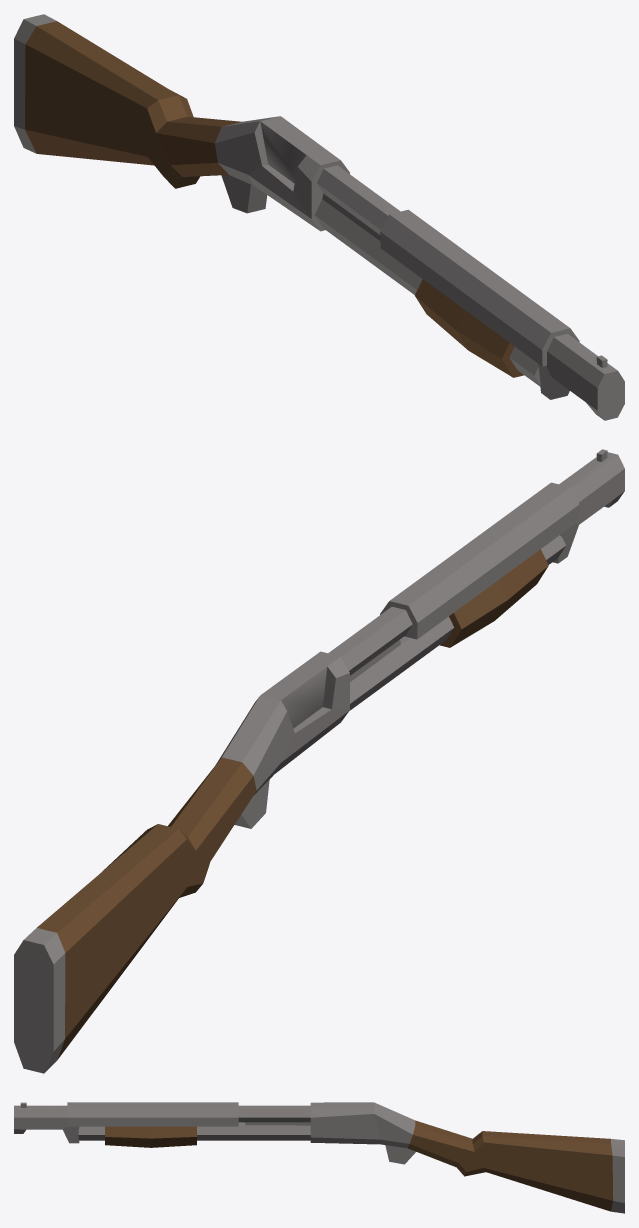
The model's file is SM_Shotgun_Old.fbx.
3 views of the same model, one above another, from view 1: azimuth 30°, elevation 25°; view 2: azimuth 150°, elevation 25°; view 3: azimuth 270°, elevation 25° (orthographic). The views are drawn at different scales.
Parts seen in each view (by area): view 1: SM_Shotgun_Old; view 2: SM_Shotgun_Old; view 3: SM_Shotgun_Old.
Boxes of the visible parts, x1,y1,x2,y2 form: SM_Shotgun_Old: (14,14,624,420); SM_Shotgun_Old: (14,449,624,1073); SM_Shotgun_Old: (14,1102,624,1213).
Bounding box in the file's own units: 0.0518 × 0.1932 × 0.9955.
